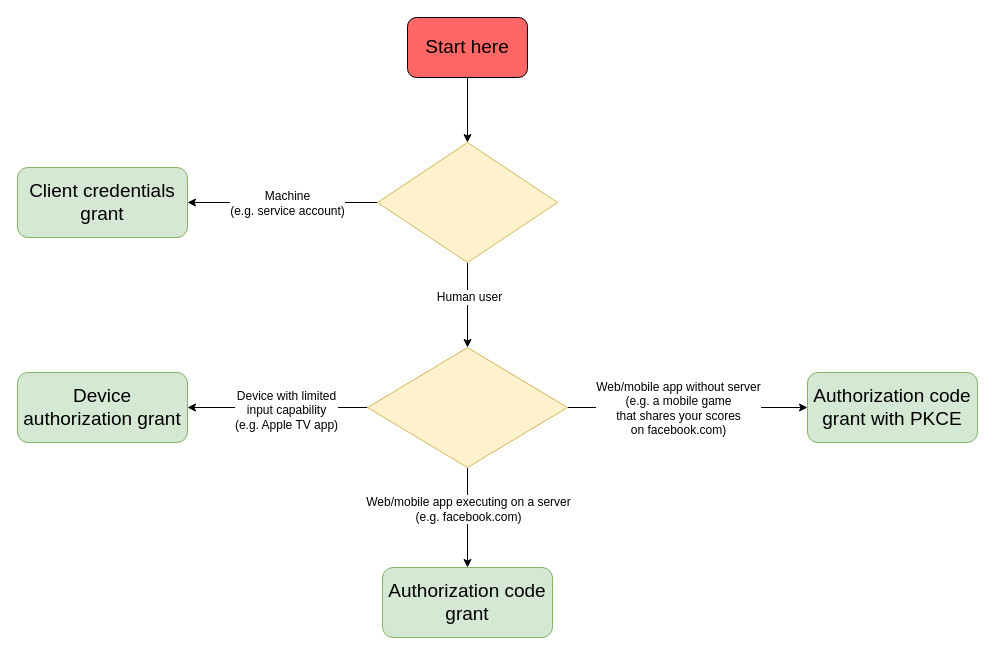
Image size: 995x655. Some labels were removed from this diagram. Each missing label, with the centre of its shape:
"Which type of client do you have?" goes at pixel 467 407.
"Who owns the access token?" goes at pixel 467 202.
